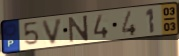1: (145, 7, 157, 34)
4: (92, 13, 110, 40), (121, 10, 138, 37)
5: (22, 20, 41, 47)
N: (68, 14, 91, 44)
V: (40, 16, 65, 46)
